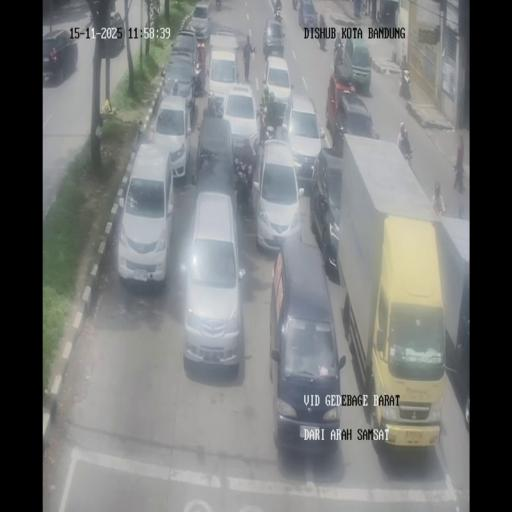3: (336, 139, 459, 446)
car: (268, 236, 341, 454), (180, 190, 246, 369), (118, 143, 174, 286), (312, 148, 344, 278), (282, 94, 324, 186), (219, 83, 260, 165), (161, 54, 199, 120), (335, 92, 377, 150), (42, 29, 79, 85), (262, 55, 292, 122), (342, 39, 372, 95), (262, 17, 286, 58), (190, 1, 213, 41), (172, 28, 198, 54), (297, 0, 318, 30)
truck: (252, 138, 264, 202), (242, 174, 255, 218), (192, 54, 202, 97), (399, 66, 411, 100), (210, 94, 225, 118), (400, 143, 413, 170), (334, 42, 344, 66), (318, 26, 327, 51), (236, 168, 246, 190), (274, 5, 282, 23), (376, 8, 382, 24), (291, 0, 298, 10), (216, 0, 222, 10)
